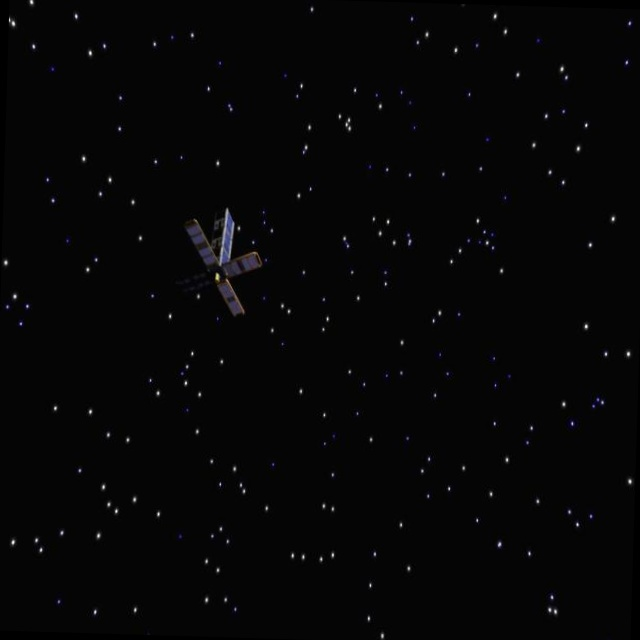satellite: (175, 203, 270, 316)
